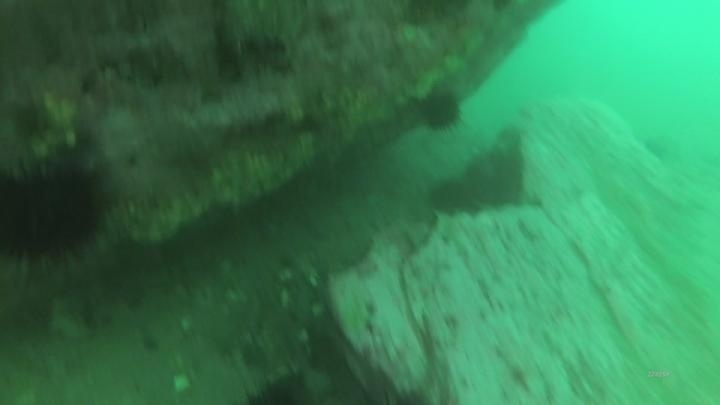echinus: (0, 157, 109, 270), (460, 146, 528, 211), (240, 366, 318, 405), (426, 176, 480, 217), (417, 87, 465, 133)
